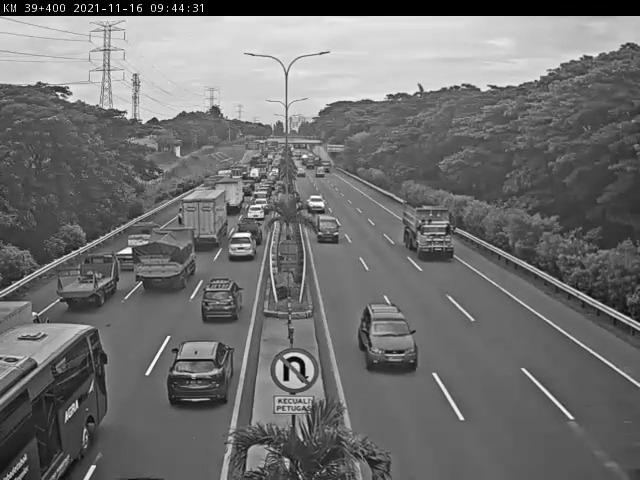car: (168, 342, 235, 406), (359, 306, 420, 372), (200, 278, 244, 322), (227, 236, 257, 263), (235, 222, 262, 249), (316, 215, 342, 242), (247, 205, 266, 220)
small truck: (55, 253, 117, 310), (111, 225, 162, 272)
truck-l-: (405, 204, 457, 260), (178, 191, 225, 250)
truck-m-: (133, 227, 198, 291), (212, 177, 244, 213)
